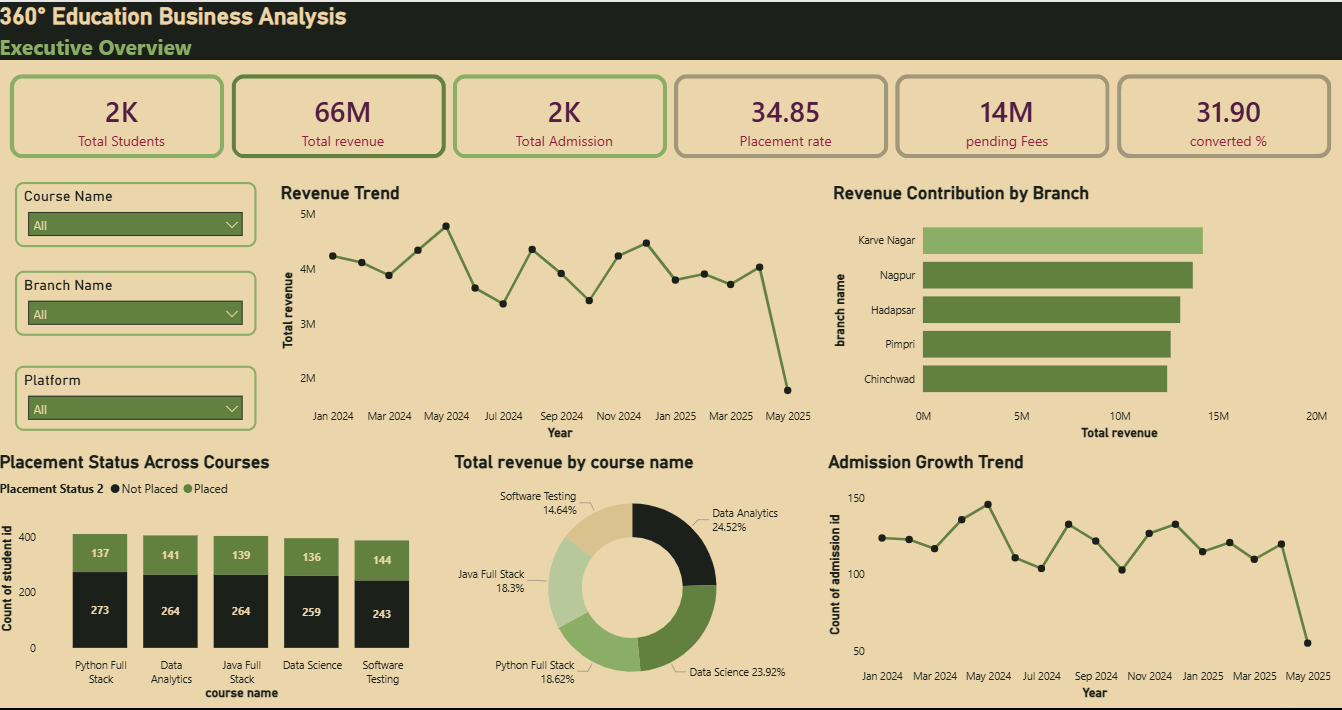

The page's visual inventory and layout, read from the dashboard file:
{"tool":"powerbi","page":{"name":"executive dashbaord","canvas":[1600,900],"ordinal":0},"visuals":[{"type":"textbox","title":"360° Education Business Analysis","box":[0,0,1544.3,65.7],"z":0},{"type":"lineChart","title":"Revenue Trend","fields":{"Y":["Revenue Measures.Total revenue"],"Category":["Admissions.admission date.Variation.Date Hierarchy.Year","Admissions.admission date.Variation.Date Hierarchy.Month"]},"box":[321.4,205.7,615.7,300],"z":1000},{"type":"clusteredBarChart","title":"Revenue Contribution by Branch","fields":{"Y":["Revenue Measures.Total revenue"],"Category":["Branches.branch name"]},"box":[952.9,205.7,574.3,300],"z":2000},{"type":"donutChart","fields":{"Y":["Revenue Measures.Total revenue"],"Category":["Courses.course name"]},"box":[520,512.9,417.1,290],"z":3000},{"type":"columnChart","title":"Placement Status Across Courses","fields":{"Category":["Courses.course name"],"Y":["CountNonNull(Placements.student id)"],"Series":["Placements.Placement Status 2"]},"box":[0,512.9,512.9,290],"z":4000},{"type":"lineChart","title":"Admission Growth Trend","fields":{"Y":["Count(Admissions.admission id)"],"Category":["Admissions.admission date.Variation.Date Hierarchy.Year","Admissions.admission date.Variation.Date Hierarchy.Month"]},"box":[947.1,512.9,584.3,290],"z":5000},{"type":"slicer","title":"Course Name","fields":{"Values":["Courses.course name"]},"box":[22.9,205.7,275.7,74.3],"z":6000},{"type":"slicer","title":"Branch Name","fields":{"Values":["Branches.branch name"]},"box":[22.9,307.1,275.7,74.3],"z":7000},{"type":"slicer","title":"Platform","fields":{"Values":["Marketing.platform"]},"box":[22.9,415.7,275.7,74.3],"z":8000},{"type":"cardVisual","fields":{"Data":["student measure.Total Students","Revenue Measures.Total revenue","student measure.Total Admission","placement measures.Placement rate","Revenue Measures.pending Fees","Lead measure.converted %"]},"box":[0,65.7,1544.3,130],"z":9000}]}

Visuals, with their boxes on the page's 1600x900 design canvas (x1, y1, x2, y2). These are canvas units, not pixel positions in the 1342x710 screenshot, which may show the page scaled, cropped or inside an application window:
"360° Education Business Analysis" textbox: <box>0,0,1544,66</box>
"Revenue Trend" lineChart: <box>321,206,937,506</box>
"Revenue Contribution by Branch" clusteredBarChart: <box>953,206,1527,506</box>
donutChart - Revenue Measures.Total revenue x Courses.course name: <box>520,513,937,803</box>
"Placement Status Across Courses" columnChart: <box>0,513,513,803</box>
"Admission Growth Trend" lineChart: <box>947,513,1531,803</box>
"Course Name" slicer: <box>23,206,299,280</box>
"Branch Name" slicer: <box>23,307,299,381</box>
"Platform" slicer: <box>23,416,299,490</box>
cardVisual - student measure.Total Students x Revenue Measures.Total revenue: <box>0,66,1544,196</box>
